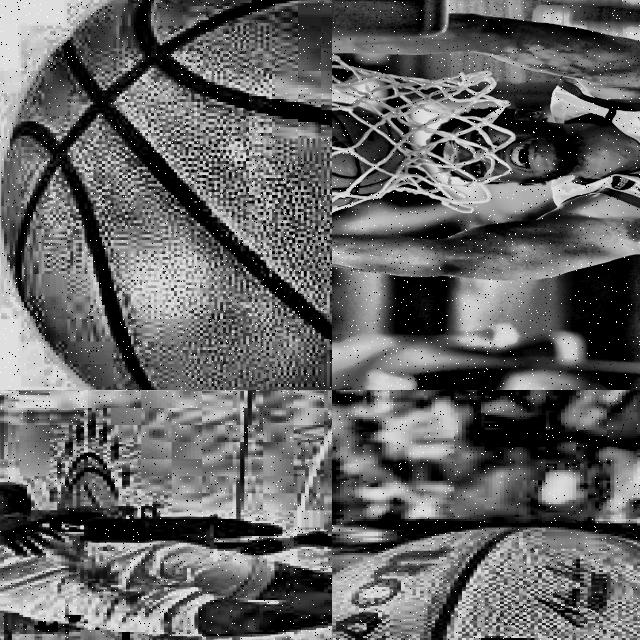Basketball: (332, 524, 640, 640), (332, 106, 404, 206)
